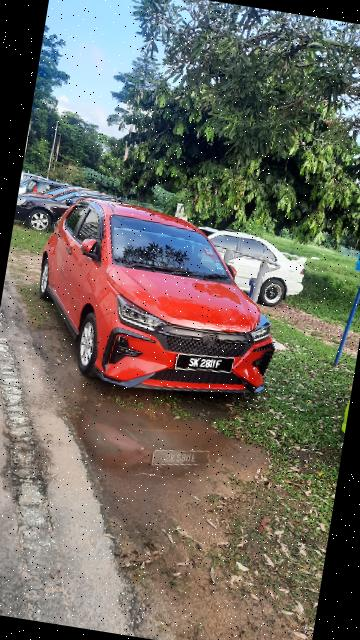License_Plate: (175, 348, 241, 378)
car: (25, 187, 298, 410)
